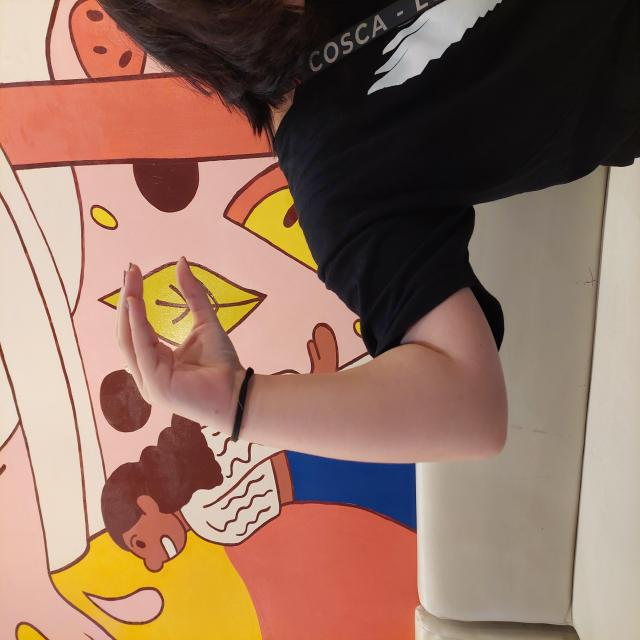C: (88, 235, 264, 465)
